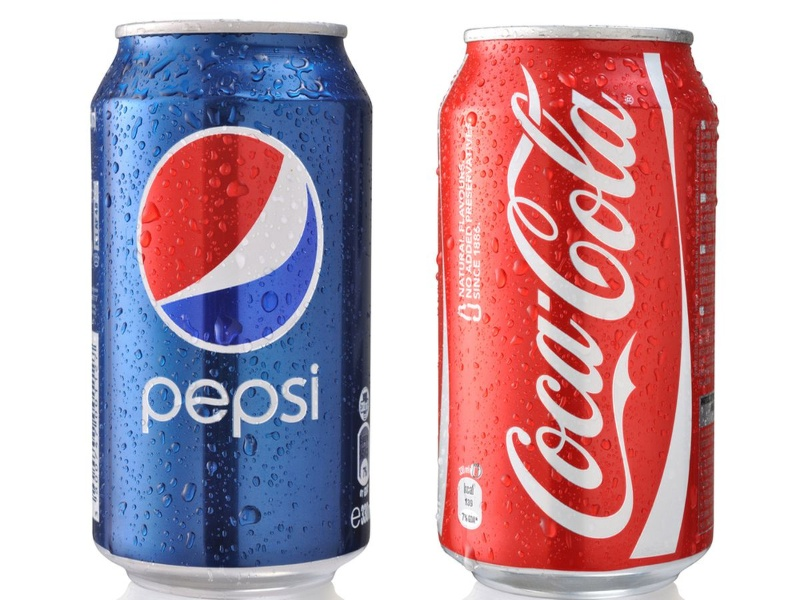coke-can: (432, 18, 740, 592)
pepsi-can: (82, 18, 366, 582)
